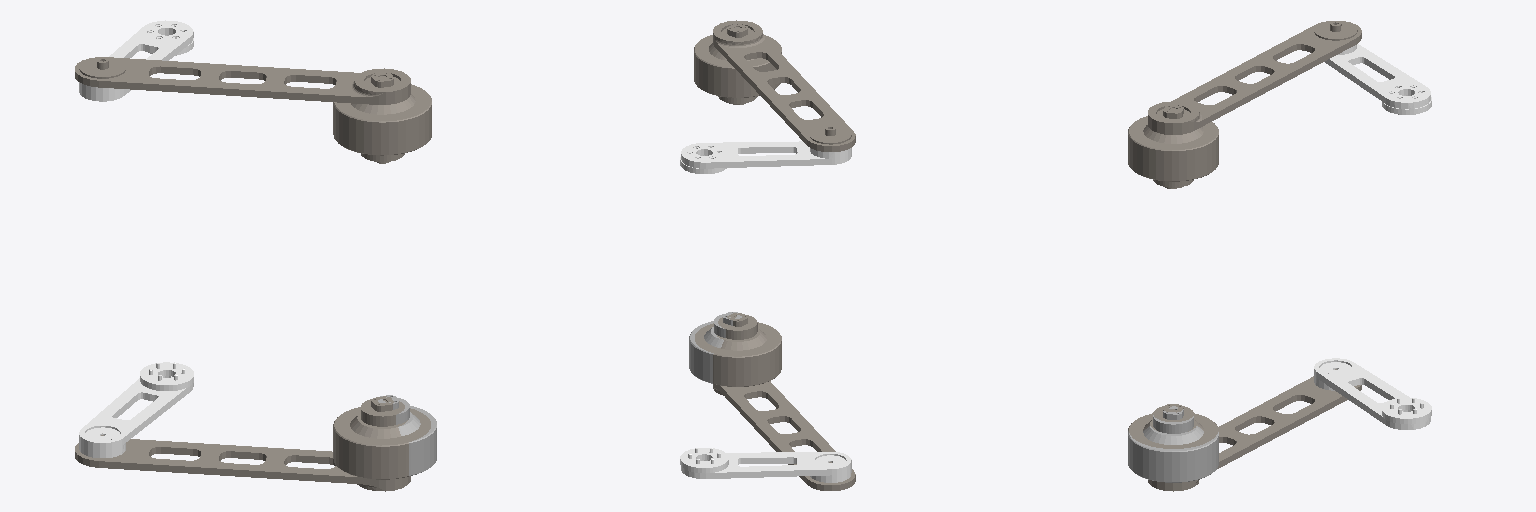
The robot description file, URDF, robot "main body(mass added2)":
<?xml version="1.0" encoding="utf-8"?>
<!-- This URDF was automatically created by SolidWorks to URDF Exporter! Originally created by [author] ([email redacted]) 
     Commit Version: 1.6.0-4-g7f85cfe  Build Version: 1.6.7995.38578
     For more information, please see http://wiki.ros.org/sw_urdf_exporter -->
<robot
  name="main body(mass added2)">
  <link
    name="base_link">
    <inertial>
      <origin
        xyz="-0.067218 1.1041 0.082533"
        rpy="0 0 0" />
      <mass
        value="9.25" />
      <inertia
        ixx="0.028386"
        ixy="-5.7075E-06"
        ixz="-9.8079E-06"
        iyy="0.041168"
        iyz="1.3954E-06"
        izz="0.062197" />
    </inertial>
    <visual>
      <origin
        xyz="0 0 0"
        rpy="0 0 0" />
      <geometry>
        <mesh
          filename="package://main body(mass added2)/meshes/base_link.STL" />
      </geometry>
      <material
        name="">
        <color
          rgba="0.75294 0.75294 0.75294 1" />
      </material>
    </visual>
    <collision>
      <origin
        xyz="0 0 0"
        rpy="0 0 0" />
      <geometry>
        <mesh
          filename="package://main body(mass added2)/meshes/base_link.STL" />
      </geometry>
    </collision>
  </link>
  <link
    name="lf0_Link">
    <inertial>
      <origin
        xyz="0.042787 0.019273 0.07411"
        rpy="0 0 0" />
      <mass
        value="0.3131" />
      <inertia
        ixx="0.00049522"
        ixy="8.0359E-06"
        ixz="-0.00024467"
        iyy="0.00069651"
        iyz="1.3919E-05"
        izz="0.0002127" />
    </inertial>
    <visual>
      <origin
        xyz="0 0 0"
        rpy="0 0 0" />
      <geometry>
        <mesh
          filename="package://main body(mass added2)/meshes/lf0_Link.STL" />
      </geometry>
      <material
        name="">
        <color
          rgba="1 1 1 1" />
      </material>
    </visual>
    <collision>
      <origin
        xyz="0 0 0"
        rpy="0 0 0" />
      <geometry>
        <mesh
          filename="package://main body(mass added2)/meshes/lf0_Link.STL" />
      </geometry>
    </collision>
  </link>
  <joint
    name="lf0_Link"
    type="revolute">
    <origin
      xyz="-0.16273 -0.039204 0.88016"
      rpy="1.5708 0 -1.5195" />
    <parent
      link="base_link" />
    <child
      link="lf0_Link" />
    <axis
      xyz="0 1 0" />
    <limit
      lower="0"
      upper="0"
      effort="0"
      velocity="0" />
  </joint>
  <link
    name="lf1_Link">
    <inertial>
      <origin
        xyz="0.013177 -0.13959 0.083536"
        rpy="0 0 0" />
      <mass
        value="0.3802" />
      <inertia
        ixx="0.0042067"
        ixy="-3.1553E-05"
        ixz="-1.8217E-05"
        iyy="0.0011261"
        iyz="-0.0017016"
        izz="0.003091" />
    </inertial>
    <visual>
      <origin
        xyz="0 0 0"
        rpy="0 0 0" />
      <geometry>
        <mesh
          filename="package://main body(mass added2)/meshes/lf1_Link.STL" />
      </geometry>
      <material
        name="">
        <color
          rgba="0.64706 0.61961 0.58824 1" />
      </material>
    </visual>
    <collision>
      <origin
        xyz="0 0 0"
        rpy="0 0 0" />
      <geometry>
        <mesh
          filename="package://main body(mass added2)/meshes/lf1_Link.STL" />
      </geometry>
    </collision>
  </link>
  <joint
    name="lf1_Link"
    type="revolute">
    <origin
      xyz="0 -0.012377 0"
      rpy="0.3252 0 1.5708" />
    <parent
      link="lf0_Link" />
    <child
      link="lf1_Link" />
    <axis
      xyz="1 0 0" />
    <limit
      lower="0"
      upper="0"
      effort="0"
      velocity="0" />
  </joint>
  <link
    name="l_wheel_Link">
    <inertial>
      <origin
        xyz="-5.5511E-17 -0.02785 -5.5511E-17"
        rpy="0 0 0" />
      <mass
        value="1.6886" />
      <inertia
        ixx="0.0004649"
        ixy="2.9876E-20"
        ixz="-4.0658E-20"
        iyy="0.00071923"
        iyz="5.1142E-19"
        izz="0.0004649" />
    </inertial>
    <visual>
      <origin
        xyz="0 0 0"
        rpy="0 0 0" />
      <geometry>
        <mesh
          filename="package://main body(mass added2)/meshes/l_wheel_Link.STL" />
      </geometry>
      <material
        name="">
        <color
          rgba="0.64706 0.61961 0.58824 1" />
      </material>
    </visual>
    <collision>
      <origin
        xyz="0 0 0"
        rpy="0 0 0" />
      <geometry>
        <mesh
          filename="package://main body(mass added2)/meshes/l_wheel_Link.STL" />
      </geometry>
    </collision>
  </link>
  <joint
    name="l_wheel_Link"
    type="revolute">
    <origin
      xyz="0.019 -0.28937 -0.0029425"
      rpy="3.1416 -0.92523 -1.5708" />
    <parent
      link="lf1_Link" />
    <child
      link="l_wheel_Link" />
    <axis
      xyz="0 0 0" />
    <limit
      lower="0"
      upper="0"
      effort="0"
      velocity="0" />
  </joint>
  <link
    name="rf0_Link">
    <inertial>
      <origin
        xyz="0.042787 -0.017701 0.07411"
        rpy="0 0 0" />
      <mass
        value="0.3131" />
      <inertia
        ixx="0.00049522"
        ixy="8.0359E-06"
        ixz="-0.00024467"
        iyy="0.00069651"
        iyz="1.3919E-05"
        izz="0.0002127" />
    </inertial>
    <visual>
      <origin
        xyz="0 0 0"
        rpy="0 0 0" />
      <geometry>
        <mesh
          filename="package://main body(mass added2)/meshes/rf0_Link.STL" />
      </geometry>
      <material
        name="">
        <color
          rgba="1 1 1 1" />
      </material>
    </visual>
    <collision>
      <origin
        xyz="0 0 0"
        rpy="0 0 0" />
      <geometry>
        <mesh
          filename="package://main body(mass added2)/meshes/rf0_Link.STL" />
      </geometry>
    </collision>
  </link>
  <joint
    name="rf0_Link"
    type="revolute">
    <origin
      xyz="-0.17175 -0.40435 -0.23291"
      rpy="0 1.4944 0" />
    <parent
      link="l_wheel_Link" />
    <child
      link="rf0_Link" />
    <axis
      xyz="0 1 0" />
    <limit
      lower="0"
      upper="0"
      effort="0"
      velocity="0" />
  </joint>
  <link
    name="rf1_Link">
    <inertial>
      <origin
        xyz="0.14827 -0.019823 0.066925"
        rpy="0 0 0" />
      <mass
        value="0.3802" />
      <inertia
        ixx="0.0040458"
        ixy="3.0541E-06"
        ixz="-0.00032825"
        iyy="0.0042067"
        iyz="3.6306E-05"
        izz="0.0001713" />
    </inertial>
    <visual>
      <origin
        xyz="0 0 0"
        rpy="0 0 0" />
      <geometry>
        <mesh
          filename="package://main body(mass added2)/meshes/rf1_Link.STL" />
      </geometry>
      <material
        name="">
        <color
          rgba="0.64706 0.61961 0.58824 1" />
      </material>
    </visual>
    <collision>
      <origin
        xyz="0 0 0"
        rpy="0 0 0" />
      <geometry>
        <mesh
          filename="package://main body(mass added2)/meshes/rf1_Link.STL" />
      </geometry>
    </collision>
  </link>
  <joint
    name="rf1_Link"
    type="revolute">
    <origin
      xyz="0 -0.016351 0"
      rpy="0 -1.4563 0" />
    <parent
      link="rf0_Link" />
    <child
      link="rf1_Link" />
    <axis
      xyz="0 1 0" />
    <limit
      lower="0"
      upper="0"
      effort="0"
      velocity="0" />
  </joint>
  <link
    name="r_wheel_Link">
    <inertial>
      <origin
        xyz="-5.5511E-17 -0.02785 -1.1102E-16"
        rpy="0 0 0" />
      <mass
        value="1.6886" />
      <inertia
        ixx="0.0004649"
        ixy="1.8307E-20"
        ixz="5.421E-20"
        iyy="0.00071923"
        iyz="5.0391E-19"
        izz="0.0004649" />
    </inertial>
    <visual>
      <origin
        xyz="0 0 0"
        rpy="0 0 0" />
      <geometry>
        <mesh
          filename="package://main body(mass added2)/meshes/r_wheel_Link.STL" />
      </geometry>
      <material
        name="">
        <color
          rgba="0.64706 0.61961 0.58824 1" />
      </material>
    </visual>
    <collision>
      <origin
        xyz="0 0 0"
        rpy="0 0 0" />
      <geometry>
        <mesh
          filename="package://main body(mass added2)/meshes/r_wheel_Link.STL" />
      </geometry>
    </collision>
  </link>
  <joint
    name="r_wheel_Link"
    type="revolute">
    <origin
      xyz="0.16277 0.0417 0.23927"
      rpy="0 -0.037732 0" />
    <parent
      link="rf1_Link" />
    <child
      link="r_wheel_Link" />
    <axis
      xyz="0 0 0" />
    <limit
      lower="0"
      upper="0"
      effort="0"
      velocity="0" />
  </joint>
</robot>

--- Facts derived from the render (not from the file) ---
The picture shows the robot from 3 angles, left to right: view 1: azimuth 30°, elevation 25°; view 2: azimuth 150°, elevation 25°; view 3: azimuth 270°, elevation 25°; orthographic projection.
Model main body(mass added2) with 7 links and 6 joints (6 revolute), rooted at base_link, posed all joints at 0.
Links seen in each view (by area): view 1: rf1_Link, lf1_Link, r_wheel_Link, l_wheel_Link, lf0_Link, rf0_Link, base_link; view 2: rf1_Link, lf0_Link, l_wheel_Link, lf1_Link, rf0_Link, r_wheel_Link, base_link; view 3: rf1_Link, r_wheel_Link, lf1_Link, base_link, lf0_Link, rf0_Link, l_wheel_Link.
Link boxes in pixels (x1,y1,x2,y2): rf1_Link: (75, 57, 410, 104); lf1_Link: (75, 435, 410, 491); r_wheel_Link: (333, 72, 431, 163); l_wheel_Link: (333, 396, 430, 479); lf0_Link: (79, 362, 193, 457); rf0_Link: (79, 20, 193, 101); base_link: (378, 395, 436, 475); rf1_Link: (713, 20, 855, 151); lf0_Link: (680, 448, 851, 482); l_wheel_Link: (695, 313, 781, 386); lf1_Link: (713, 381, 855, 490); rf0_Link: (680, 141, 851, 173); r_wheel_Link: (694, 24, 781, 104); base_link: (689, 312, 741, 383); rf1_Link: (1148, 21, 1361, 134); r_wheel_Link: (1128, 105, 1218, 188); lf1_Link: (1148, 369, 1361, 491); base_link: (1128, 406, 1218, 482); lf0_Link: (1314, 358, 1431, 429); rf0_Link: (1325, 44, 1431, 114); l_wheel_Link: (1128, 404, 1218, 448).
Bounding box of the posed robot: 0.3236 × 0.3495 × 0.4747 m (x, y, z).
7 mesh visuals loaded from 7 distinct referenced files (7 binary STL).